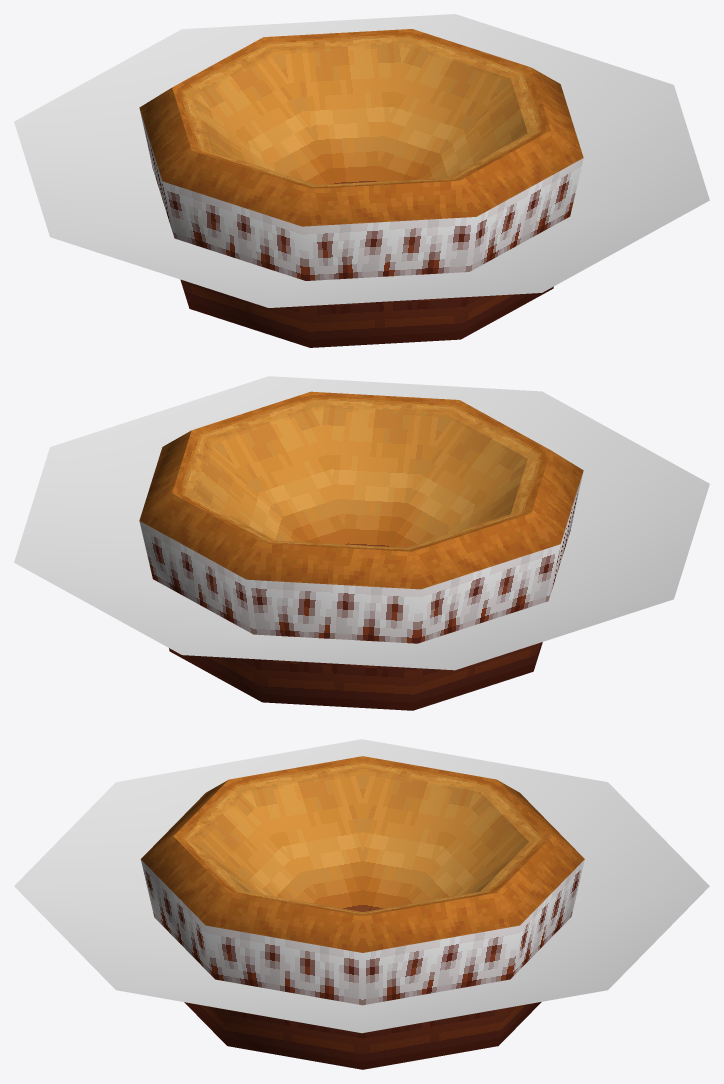
3 renders of one model, top to bottom at view 1: azimuth 30°, elevation 25°; view 2: azimuth 150°, elevation 25°; view 3: azimuth 270°, elevation 25°, orthographic. The views are drawn at different scales.
Visible parts, largest first — view 1: 5498u_pie00_ss; view 2: 5498u_pie00_ss; view 3: 5498u_pie00_ss.
Part boxes in pixels (box(x1,y1,x2,y2)): 5498u_pie00_ss: box(14, 14, 709, 347); 5498u_pie00_ss: box(14, 376, 709, 710); 5498u_pie00_ss: box(14, 739, 709, 1069).
Bounding box in the file's own units: 0.8867 × 0.2768 × 0.8867.
Materials: 5 (5 with a texture image).
